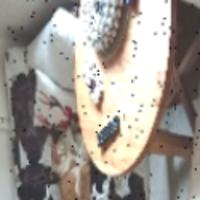asleep: (48, 138, 91, 200)
